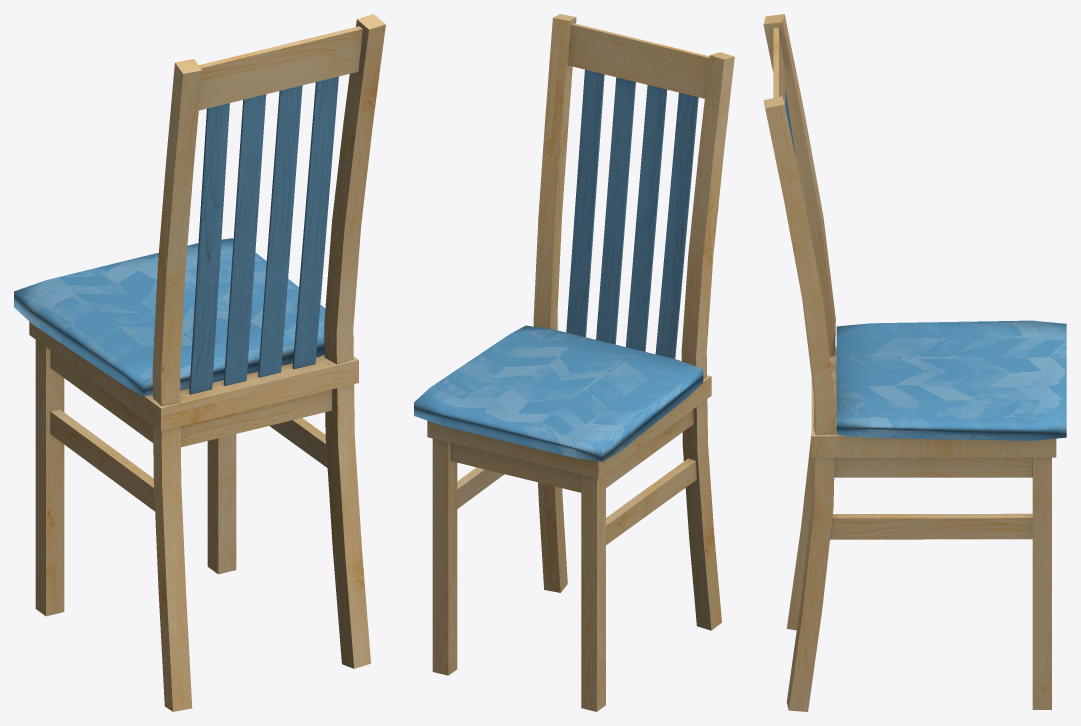
Rendered from chairSimpleWood.fbx.
3 views of the same model, side by side, from view 1: azimuth 30°, elevation 25°; view 2: azimuth 150°, elevation 25°; view 3: azimuth 270°, elevation 25° (orthographic). The views are drawn at different scales.
Visible parts, largest first — view 1: chairSimpleWood; view 2: chairSimpleWood; view 3: chairSimpleWood.
Boxes of the visible parts, bbox=[...] form: chairSimpleWood: bbox=[14, 14, 385, 711]; chairSimpleWood: bbox=[414, 14, 734, 711]; chairSimpleWood: bbox=[763, 14, 1066, 711].
Bounding box in the file's own units: 0.8668 × 2.48 × 1.12.
1 material, 1 textured.
